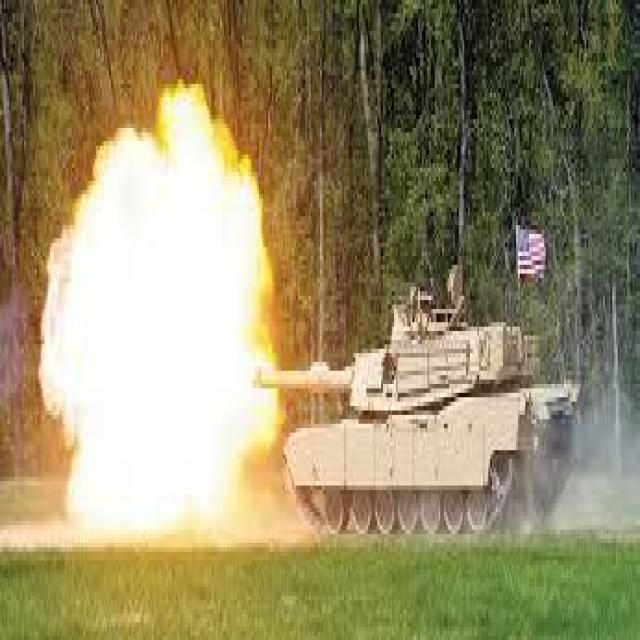Tanks: (286, 265, 567, 525)
